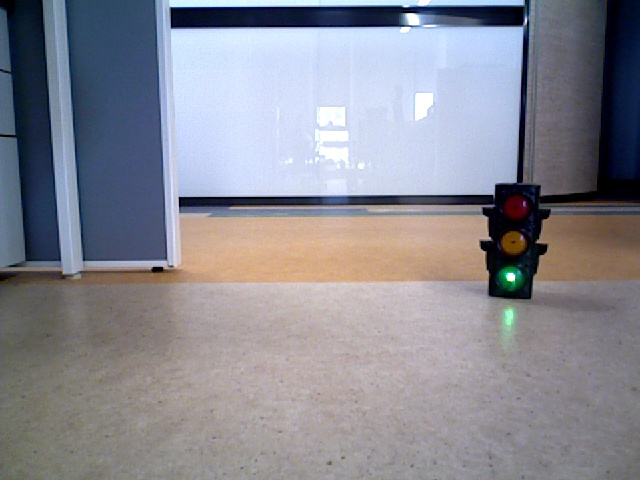green: (491, 184, 530, 289)
